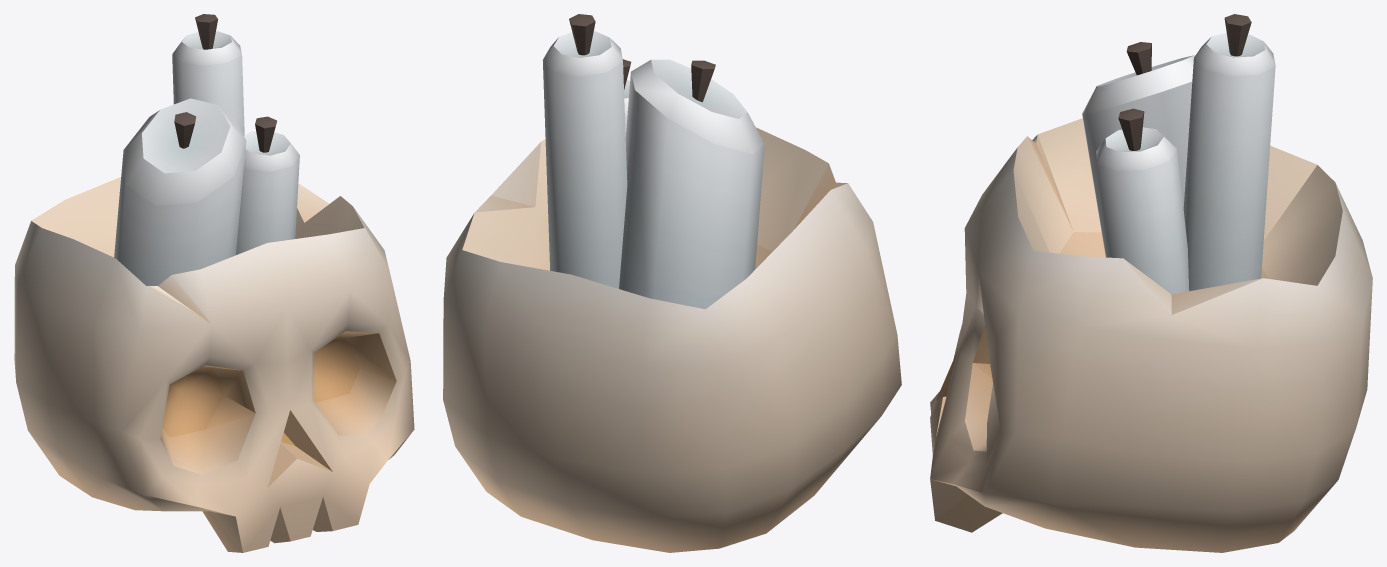
File: d_kaykit_crane_bougie.glb
The picture shows the model from 3 angles, left to right: view 1: azimuth 30°, elevation 25°; view 2: azimuth 150°, elevation 25°; view 3: azimuth 270°, elevation 25°; orthographic projection. The views are drawn at different scales.
Visible parts, largest first — view 1: d_kaykit_crane_bougie; view 2: d_kaykit_crane_bougie; view 3: d_kaykit_crane_bougie.
Boxes of the visible parts, x1,y1,x2,y2 form: d_kaykit_crane_bougie: [14, 14, 414, 552]; d_kaykit_crane_bougie: [443, 14, 901, 552]; d_kaykit_crane_bougie: [930, 14, 1372, 552].
Size of the model in its own units: 0.9176 by 1.19 by 0.9361.
1 material, 1 textured.
